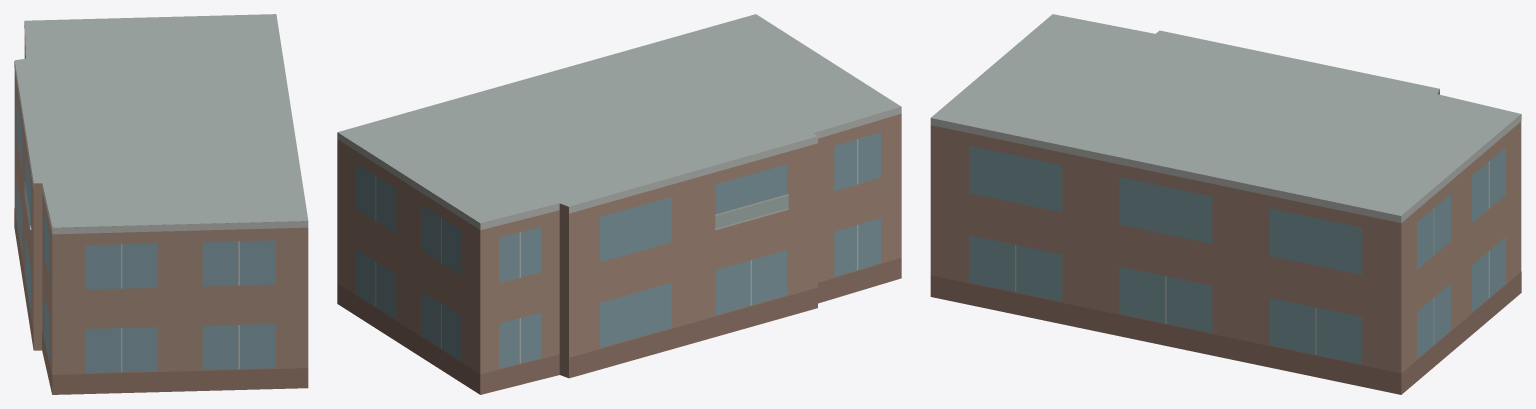
Rendered from survey-upis-32631472.glb.
3 views of the same model, side by side, from view 1: azimuth 30°, elevation 25°; view 2: azimuth 150°, elevation 25°; view 3: azimuth 270°, elevation 25° (orthographic). The views are drawn at different scales.
Parts seen in each view (by area): view 1: survey-upis-32631472.tmp; view 2: survey-upis-32631472.tmp; view 3: survey-upis-32631472.tmp.
Part boxes in pixels (<box>): survey-upis-32631472.tmp: <box>14,14,308,394</box>; survey-upis-32631472.tmp: <box>337,14,901,394</box>; survey-upis-32631472.tmp: <box>930,14,1521,394</box>.
Bounding box in the file's own units: 14.79 × 6.1 × 18.27.
